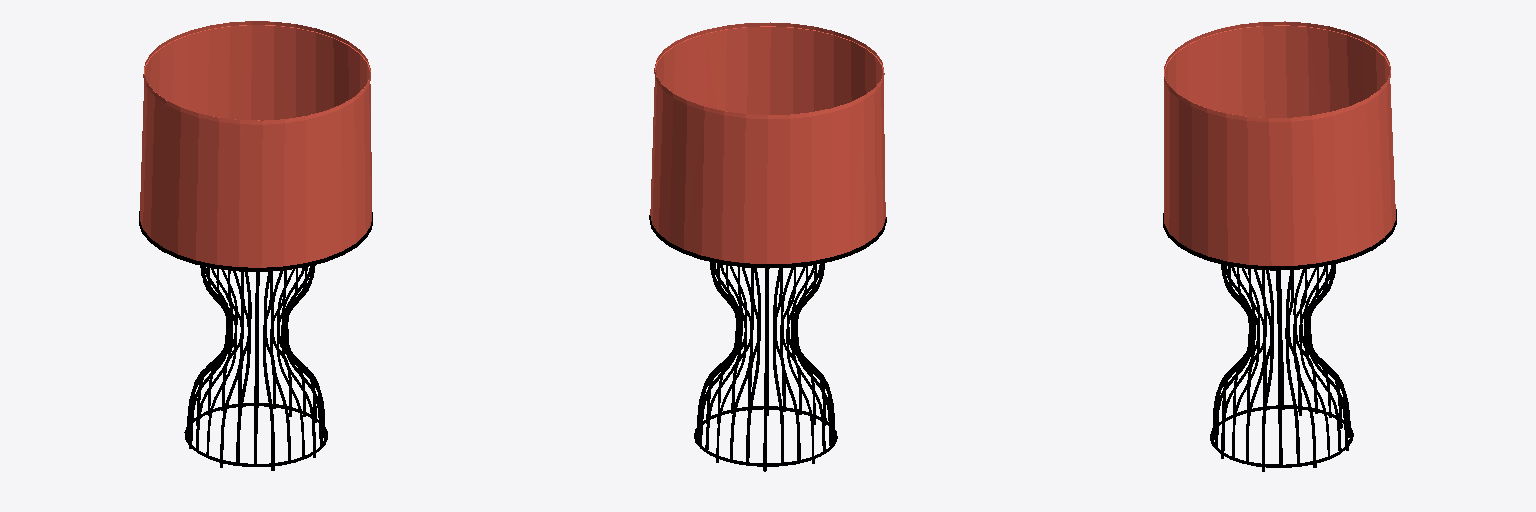
The model's file is light04.obj.
The picture shows the model from 3 angles: view 1: azimuth 30°, elevation 25°; view 2: azimuth 150°, elevation 25°; view 3: azimuth 270°, elevation 25°; orthographic projection.
Visible parts, largest first — view 1: Object.1; view 2: Object.1; view 3: Object.1.
Boxes of the visible parts, x1=… form: Object.1: x1=139, y1=21, x2=372, y2=470; Object.1: x1=649, y1=22, x2=886, y2=471; Object.1: x1=1163, y1=21, x2=1396, y2=471.
Size of the model in its own units: 7.45 by 13.1 by 7.41.